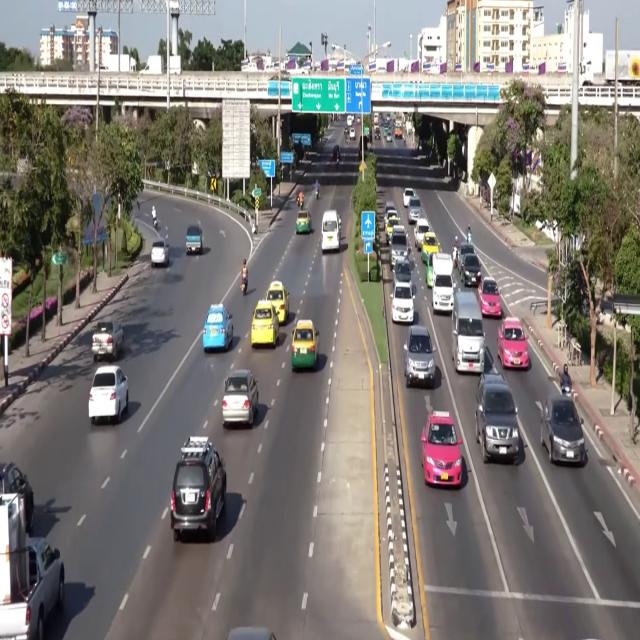car: (171, 437, 226, 541), (475, 371, 520, 463), (541, 395, 586, 465), (421, 411, 462, 487), (0, 463, 34, 534), (88, 366, 128, 423), (222, 370, 258, 428), (404, 325, 435, 388), (497, 317, 529, 369), (203, 304, 233, 352), (291, 320, 318, 371), (251, 300, 279, 348), (265, 281, 289, 324), (478, 276, 501, 317), (391, 283, 414, 324), (390, 225, 410, 269), (460, 254, 481, 286), (226, 627, 275, 639), (421, 232, 439, 263), (393, 258, 412, 286), (150, 240, 169, 267), (186, 225, 203, 255), (385, 210, 400, 242), (458, 243, 475, 271), (414, 218, 429, 248), (408, 197, 422, 224), (425, 253, 436, 287), (296, 210, 311, 233), (403, 188, 416, 207), (384, 200, 396, 218), (332, 145, 340, 161), (374, 128, 380, 140), (349, 128, 355, 140), (386, 133, 392, 143), (383, 126, 389, 136), (344, 127, 348, 137), (356, 117, 360, 124)
scooty: (561, 384, 571, 398), (241, 276, 247, 295), (453, 249, 458, 268), (298, 199, 303, 209), (153, 218, 157, 230), (315, 188, 318, 199)
traffic signal: (210, 177, 217, 192), (255, 196, 260, 209)
truck: (0, 495, 64, 639), (92, 321, 124, 362), (101, 55, 136, 72), (140, 55, 165, 75), (605, 50, 615, 84)
